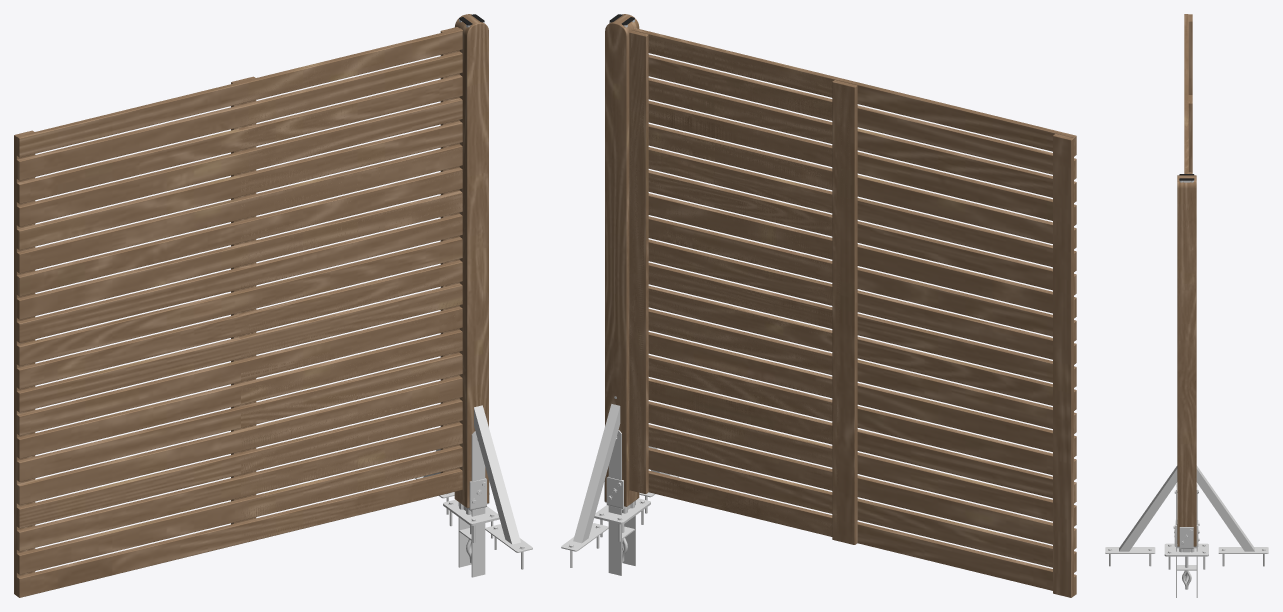
File: varoCombo7.glb
3 views of the same model, side by side, from view 1: azimuth 30°, elevation 25°; view 2: azimuth 150°, elevation 25°; view 3: azimuth 270°, elevation 25° (orthographic). The views are drawn at different scales.
Visible parts, largest first — view 1: 180x180, 90x180, stubić Sina, sturmanker-right-front, Nosač Stubića Sina, post-root-right; view 2: 180x180, 90x180, stubić Sina, sturmanker-right-rear, Nosač Stubića Sina, post-root-right; view 3: stubić Sina, sturmanker-right-rear, sturmanker-right-front, 180x180, post-root-right, 90x180, Nosač Stubića Sina, NosacBoth.
Part boxes in pixels (x1,y1,x2,y2): 180x180: (14, 27, 462, 597); 90x180: (238, 30, 462, 543); stubić Sina: (454, 14, 488, 508); sturmanker-right-front: (474, 405, 532, 569); Nosač Stubića Sina: (458, 431, 485, 577); post-root-right: (443, 499, 499, 542); 180x180: (629, 28, 1076, 597); 90x180: (629, 28, 854, 540); stubić Sina: (605, 14, 639, 506); sturmanker-right-rear: (561, 396, 620, 567); Nosač Stubića Sina: (608, 430, 635, 575); post-root-right: (594, 498, 650, 541); stubić Sina: (1177, 175, 1196, 546); sturmanker-right-rear: (1196, 465, 1268, 566); sturmanker-right-front: (1105, 466, 1177, 566); 180x180: (1184, 14, 1192, 173); post-root-right: (1164, 543, 1208, 569); 90x180: (1184, 99, 1192, 173); Nosač Stubića Sina: (1174, 484, 1198, 597); NosacBoth: (1179, 527, 1193, 582).
Bounding box in the file's own units: 1.91 × 2.14 × 0.7571.
Materials: 9 (1 with a texture image).
